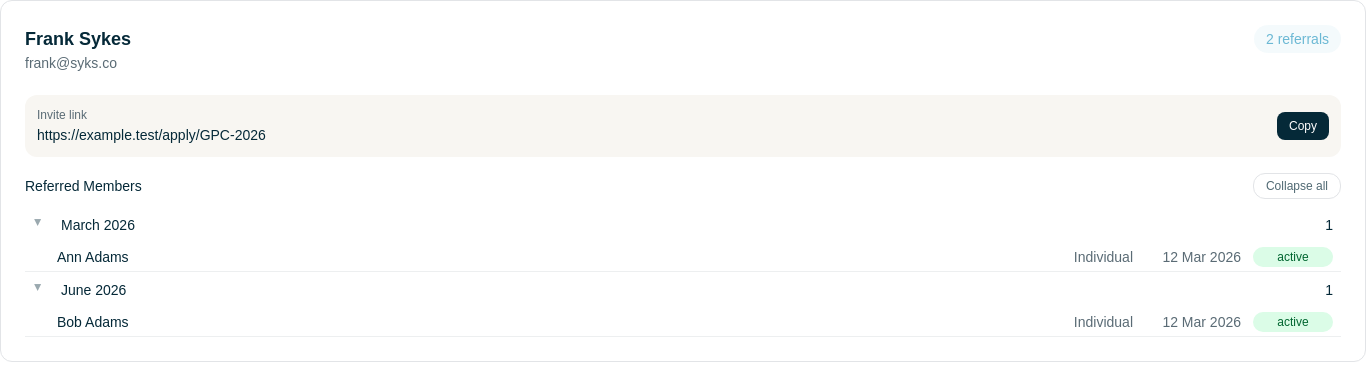
it: OriginatorList referred-members breakdown › collapses and expands all of a card's months from one control
Click the button "Collapse all" at (1297, 186), box [1253,173,1341,199]
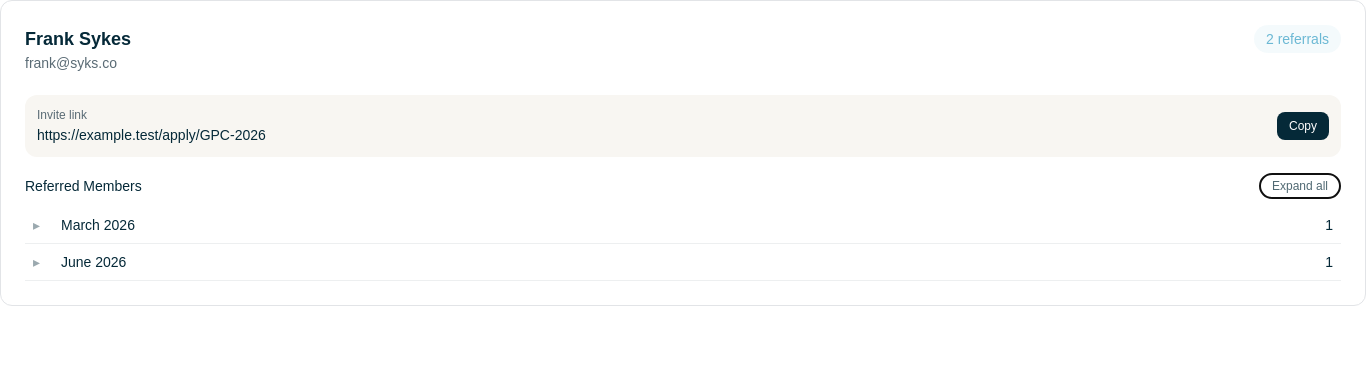
Expected: the text "Ann Adams" is gone
Expected: the text "Bob Adams" is gone
Click the button "Expand all" at (1300, 186), box [1259,173,1341,199]
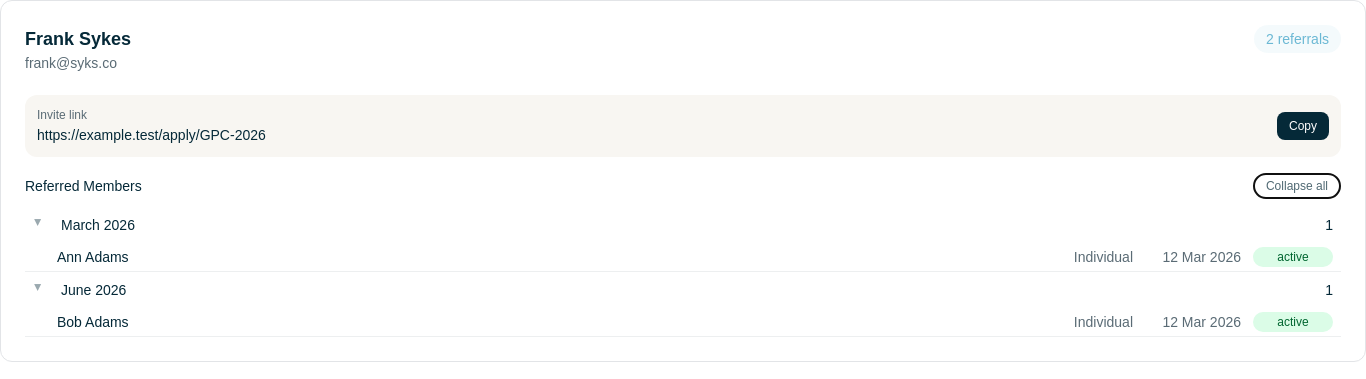
Expected: the text "Ann Adams" is shown, [57,249,129,265]
Expected: the text "Bob Adams" is shown, [57,314,129,330]
